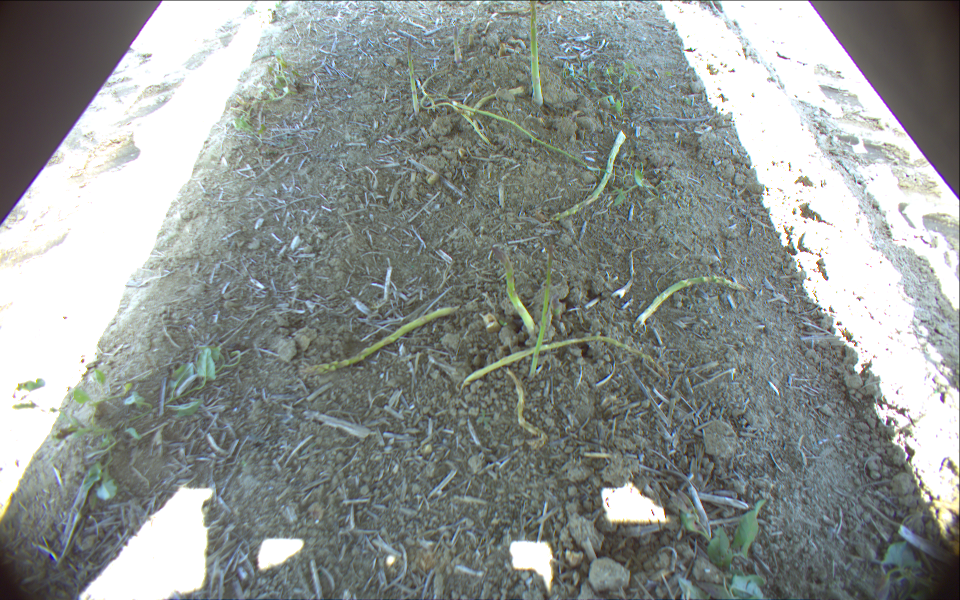aspa: (455, 100, 608, 176), (463, 335, 662, 389), (306, 305, 460, 374), (549, 130, 625, 224), (633, 272, 746, 332), (420, 94, 497, 148), (494, 249, 534, 331), (507, 371, 547, 448), (532, 240, 554, 377), (527, 1, 545, 105), (473, 87, 529, 113), (418, 69, 449, 111), (407, 35, 418, 117), (453, 18, 463, 63)
